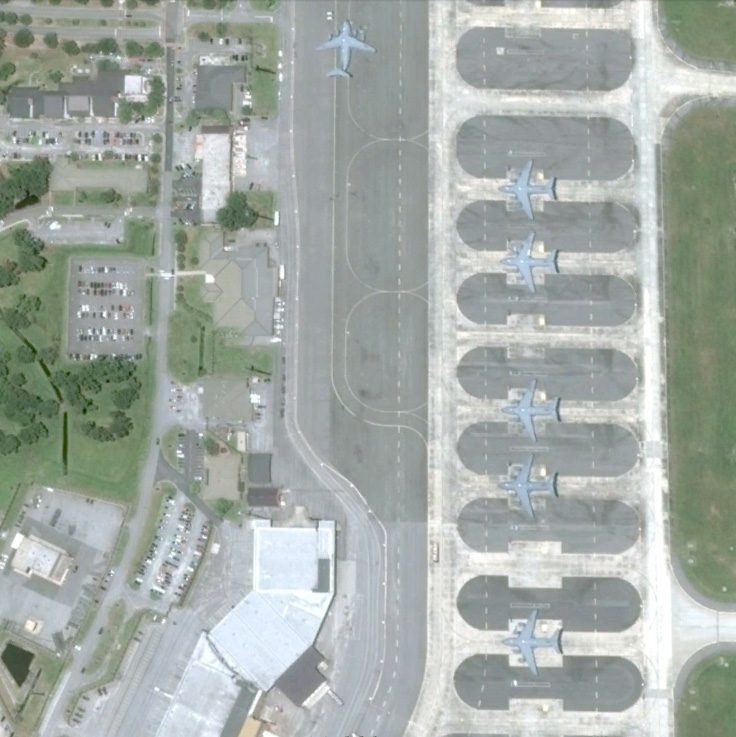A3: (496, 454, 562, 519), (501, 609, 566, 674), (499, 378, 564, 442), (497, 231, 563, 292), (497, 159, 561, 220), (317, 18, 376, 81)
